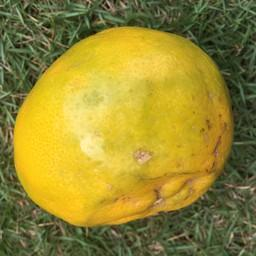Good_orange: (12, 17, 239, 223)
